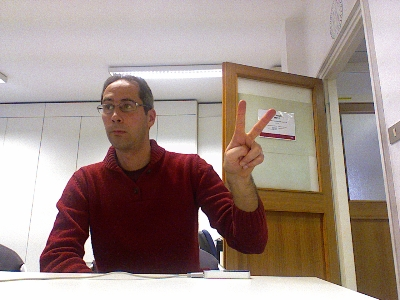剪刀: (222, 98, 276, 178)
